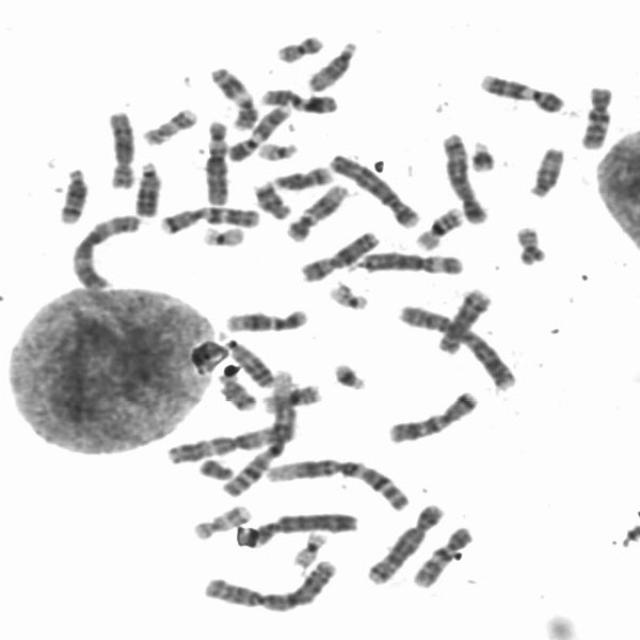A1: (214, 362, 301, 498), (259, 450, 414, 512)
A2: (390, 297, 520, 392), (195, 553, 340, 613)
A3: (64, 206, 144, 291), (159, 416, 296, 465)
B4: (321, 146, 422, 230), (240, 505, 362, 547)
B5: (359, 496, 447, 586), (435, 125, 490, 225)
C10: (405, 520, 477, 590), (573, 77, 616, 151)
C11: (203, 60, 260, 130), (254, 81, 340, 114)
C12: (278, 176, 351, 242), (218, 302, 310, 334)
C6: (346, 244, 468, 276), (198, 113, 232, 207)
C7: (380, 383, 482, 445), (154, 198, 264, 236)
C8: (431, 280, 495, 355), (98, 103, 138, 190)
C9: (221, 97, 293, 163), (472, 65, 566, 114)
D13: (214, 328, 276, 389), (128, 154, 164, 218)
D14: (50, 159, 91, 225), (263, 159, 335, 191)
D15: (300, 33, 360, 93), (520, 139, 568, 199)
E16: (409, 200, 465, 251), (256, 377, 323, 414)
E17: (185, 498, 254, 542), (134, 100, 200, 146)
E18: (247, 174, 294, 220), (211, 369, 258, 412)
F19: (286, 525, 329, 568), (195, 219, 248, 248)
F20: (269, 27, 326, 64), (508, 218, 549, 266)
G21: (325, 355, 369, 392), (463, 133, 498, 173)
G22: (321, 275, 371, 311), (250, 134, 300, 162)
X: (293, 224, 382, 284)
Y: (191, 450, 237, 482)
